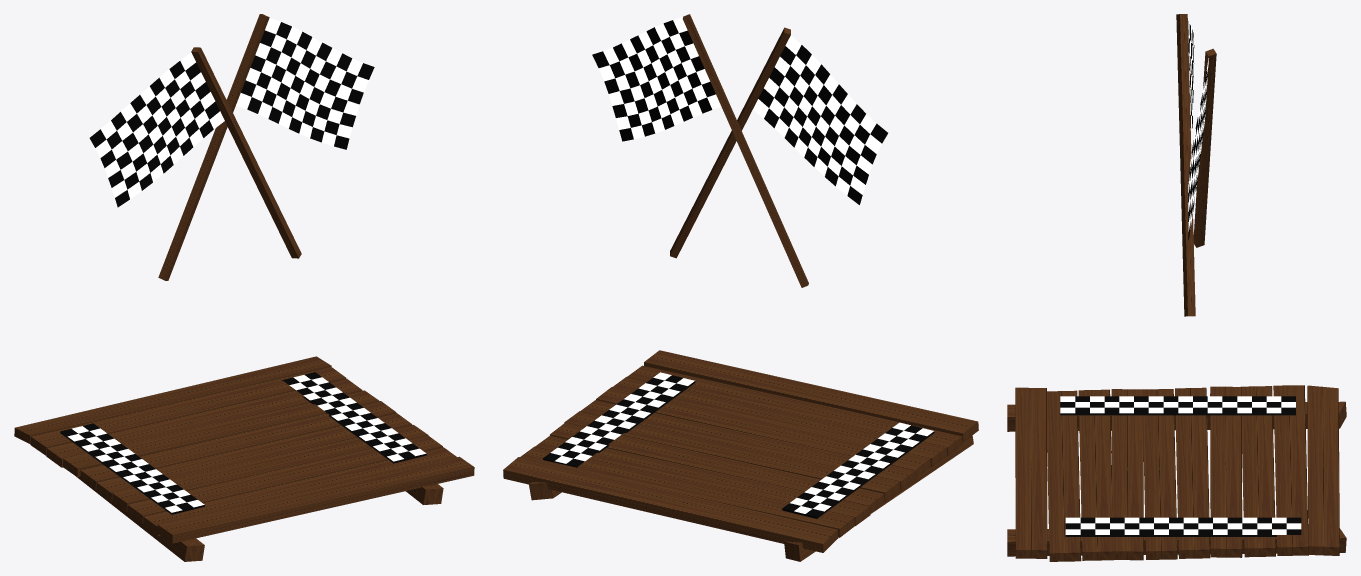
Rendered from racepad.glb.
3 views of the same model, side by side, from view 1: azimuth 30°, elevation 25°; view 2: azimuth 150°, elevation 25°; view 3: azimuth 270°, elevation 25° (orthographic). The views are drawn at different scales.
Parts seen in each view (by area): view 1: Cube.069, Cube.071, Cube.070, Cube.068; view 2: Cube.069, Cube.071, Cube.070, Cube.068; view 3: Cube.069, Cube.071, Cube.070, Cube.068.
Part boxes in pixels (left/top/right/bottom): Cube.069: left=14, top=356, right=474, bottom=561; Cube.071: left=89, top=14, right=374, bottom=280; Cube.070: left=60, top=423, right=204, bottom=514; Cube.068: left=282, top=372, right=426, bottom=463; Cube.069: left=503, top=350, right=978, bottom=561; Cube.071: left=592, top=14, right=887, bottom=287; Cube.070: left=782, top=422, right=934, bottom=518; Cube.068: left=543, top=372, right=695, bottom=467; Cube.069: left=1007, top=385, right=1346, bottom=561; Cube.071: left=1176, top=14, right=1216, bottom=316; Cube.070: left=1060, top=396, right=1295, bottom=415; Cube.068: left=1065, top=517, right=1301, bottom=536.
Bounding box in the file's own units: 4.26 × 5.8 × 3.84.
5 materials, 1 textured.
